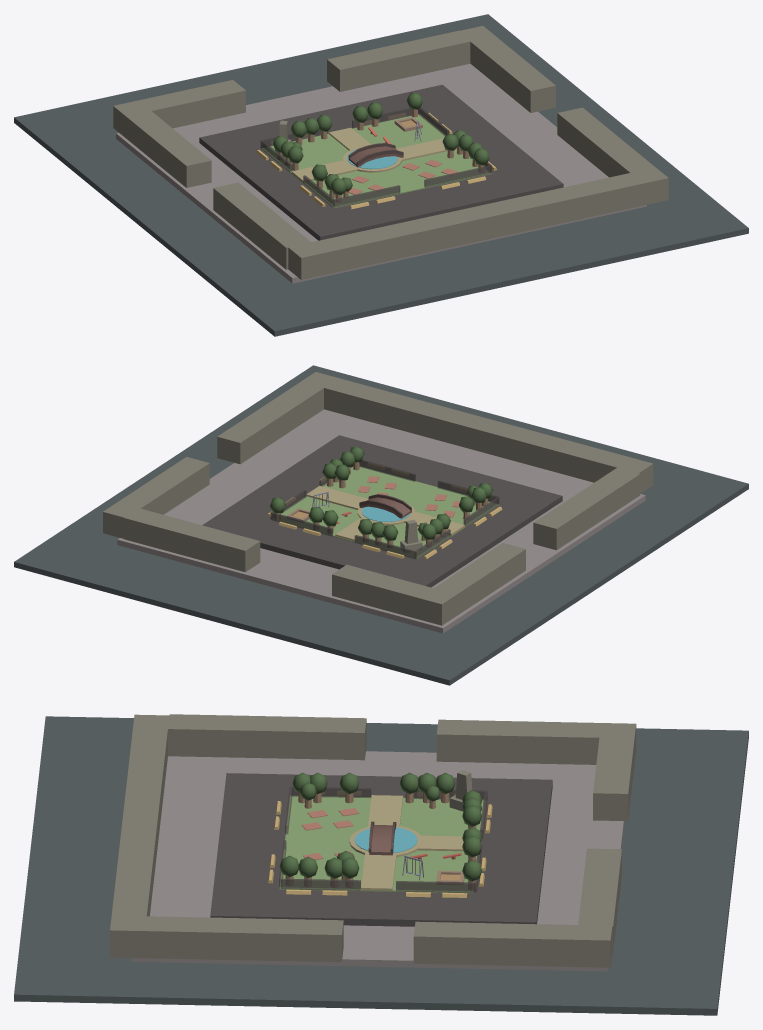
Rendered from zone2_block.fbx.
3 views of the same model, one above another, from view 1: azimuth 30°, elevation 25°; view 2: azimuth 150°, elevation 25°; view 3: azimuth 270°, elevation 25° (orthographic). The views are drawn at different scales.
Visible parts, largest first — view 1: pCube101, pCube23, pCube32, pCube34, pCube19, pCube100, pCube99, pCube35, pCube22, pCube97, pCube98, pCube36 (+3 smaller); view 2: pCube101, pCube32, pCube23, pCube34, pCube19, pCube100, pCube35, pCube22, pCube98, pCube99, pCube97, pCube36; view 3: pCube101, pCube32, pCube23, pCube19, pCube34, pCube22, pCube98, pCube99, pCube97, pCube35, pCube100, pCube36 (+5 smaller).
Part boxes in pixels (x1,y1,x2,y2): pCube101: (14, 14, 748, 336); pCube23: (199, 84, 563, 240); pCube32: (116, 63, 646, 283); pCube34: (288, 167, 668, 279); pCube19: (262, 114, 491, 208); pCube100: (327, 30, 470, 91); pCube99: (458, 26, 555, 112); pCube35: (113, 80, 245, 138); pCube22: (213, 182, 310, 269); pCube97: (126, 101, 211, 187); pCube98: (557, 107, 655, 177); pCube36: (292, 138, 456, 182); pCube101: (14, 365, 748, 685); pCube32: (117, 409, 645, 633); pCube23: (202, 435, 562, 587); pCube34: (301, 372, 653, 493); pCube19: (273, 466, 499, 559); pCube100: (124, 508, 260, 572); pCube35: (332, 564, 456, 625); pCube22: (533, 467, 640, 550); pCube98: (217, 381, 323, 464); pCube99: (103, 457, 209, 538); pCube97: (419, 543, 525, 615); pCube36: (306, 485, 464, 535); pCube101: (14, 716, 748, 1015); pCube32: (131, 751, 624, 971); pCube23: (210, 773, 552, 926); pCube19: (279, 796, 484, 893); pCube34: (110, 714, 169, 958); pCube22: (168, 714, 366, 760); pCube98: (145, 916, 343, 962); pCube99: (413, 921, 612, 967); pCube97: (436, 719, 634, 764); pCube35: (593, 723, 636, 821); pCube100: (578, 848, 621, 953); pCube36: (361, 795, 402, 891).
Bounding box in the file's own units: 399 × 36.73 × 423.
